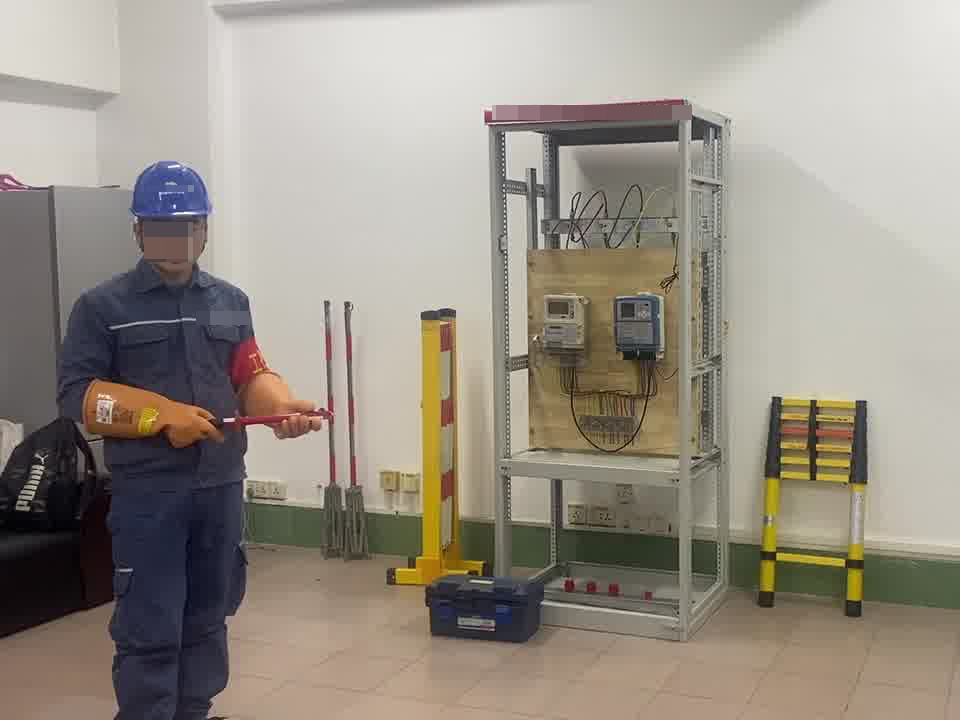badge: (229, 336, 269, 387)
downsuit: (104, 490, 250, 720)
halt: (126, 159, 216, 278)
longglove: (78, 373, 224, 454), (246, 373, 334, 446)
person: (52, 156, 324, 720)
testrod: (209, 404, 336, 442)
upsuit: (65, 262, 281, 489)
wronghold: (242, 383, 330, 445)
